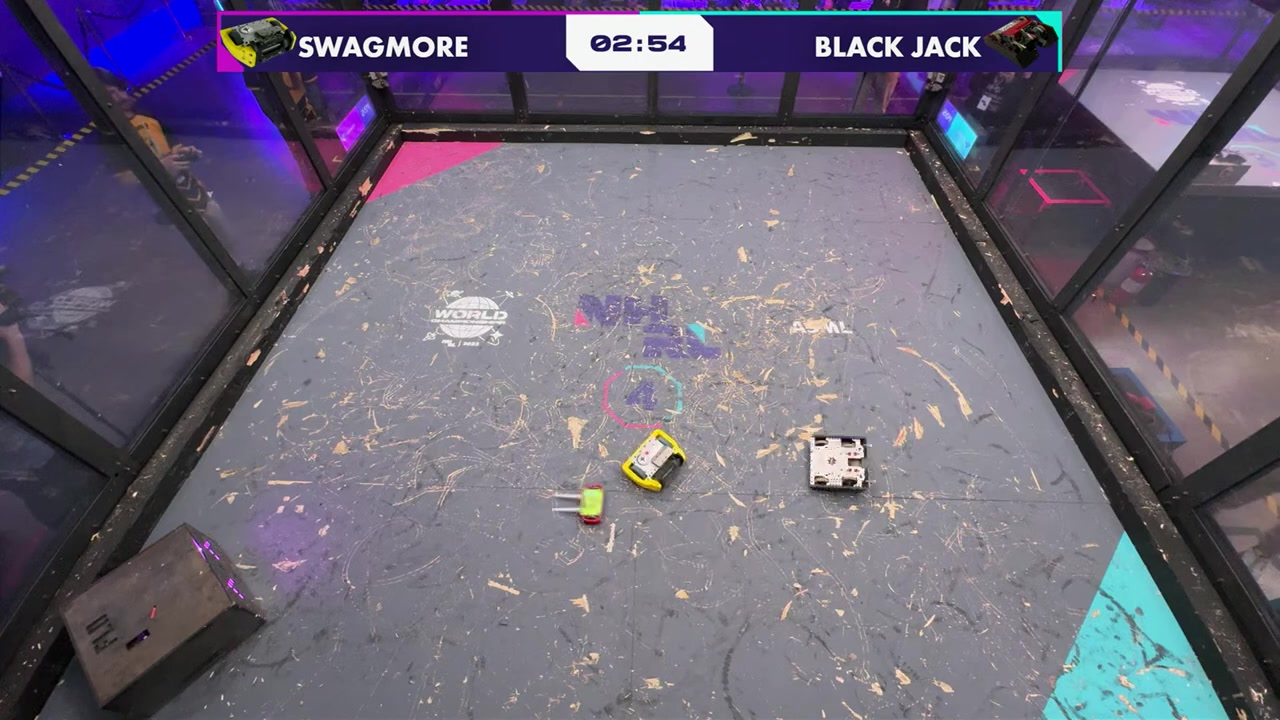combatbot: (622, 429, 688, 490), (807, 433, 871, 491)
housebot: (59, 523, 269, 713)
minibot: (578, 484, 605, 522)
